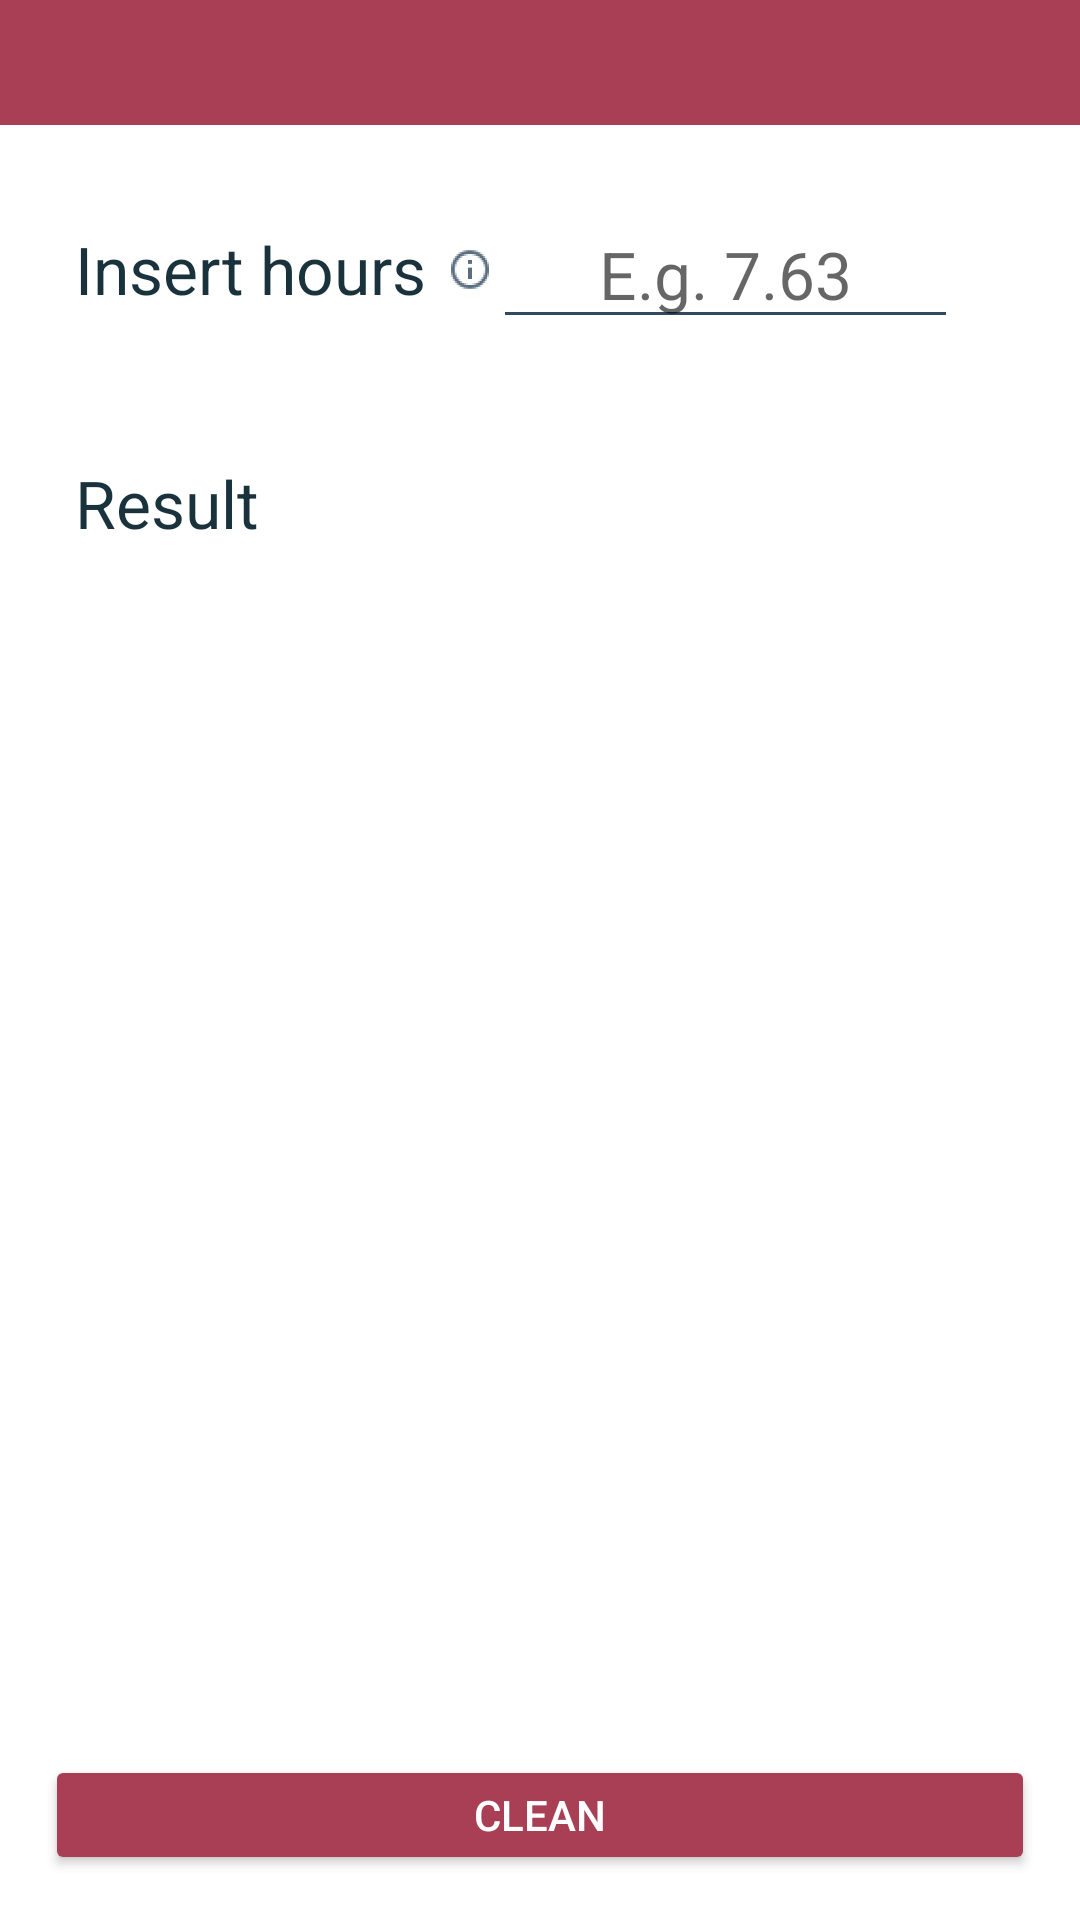

Named icons in this screenshot (1080px x 1920px) and their centers, (x=x, y=y):
info: (x=470, y=269)
